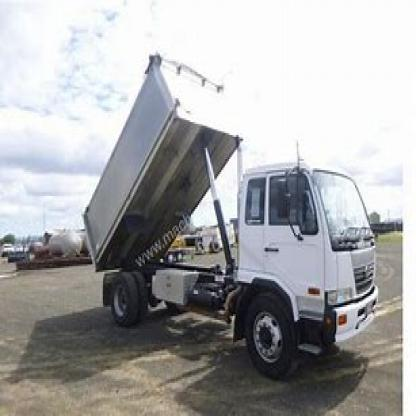dump_truck: (70, 35, 385, 364)
